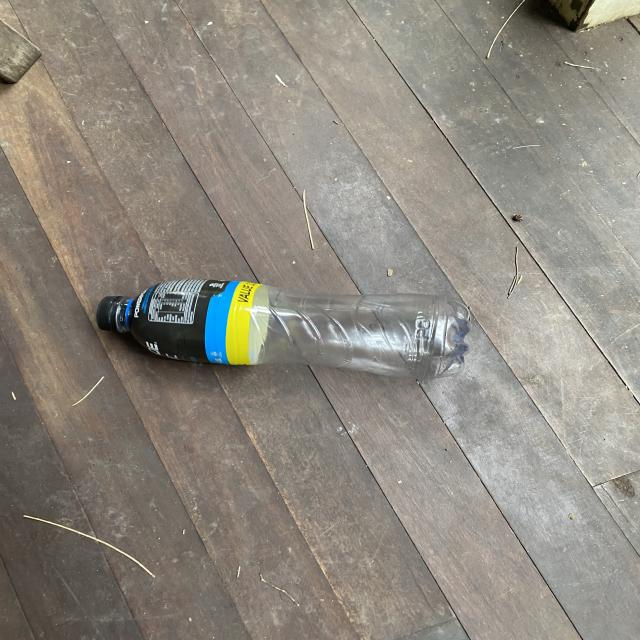bottle: (91, 276, 480, 378)
